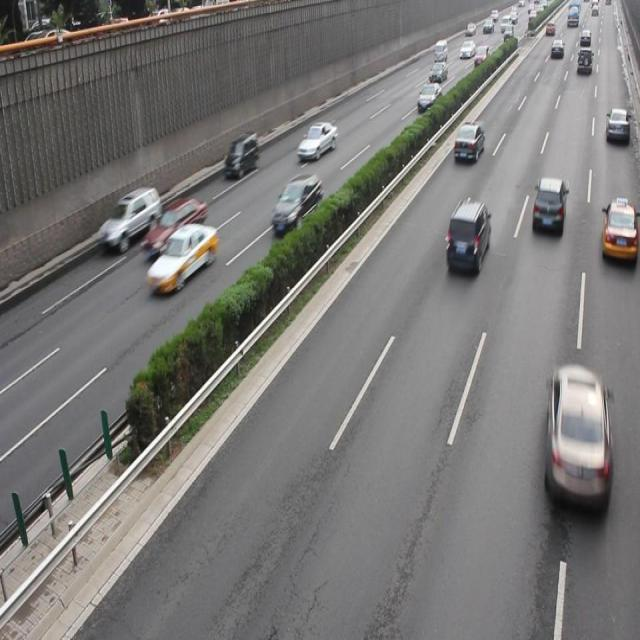car: (544, 364, 612, 514), (145, 222, 216, 292), (98, 185, 162, 252), (144, 193, 206, 256), (271, 172, 321, 236), (599, 200, 640, 264), (530, 176, 564, 235), (296, 120, 336, 161), (452, 122, 484, 164), (603, 105, 629, 146)
truck: (444, 198, 490, 274), (224, 131, 258, 178)
